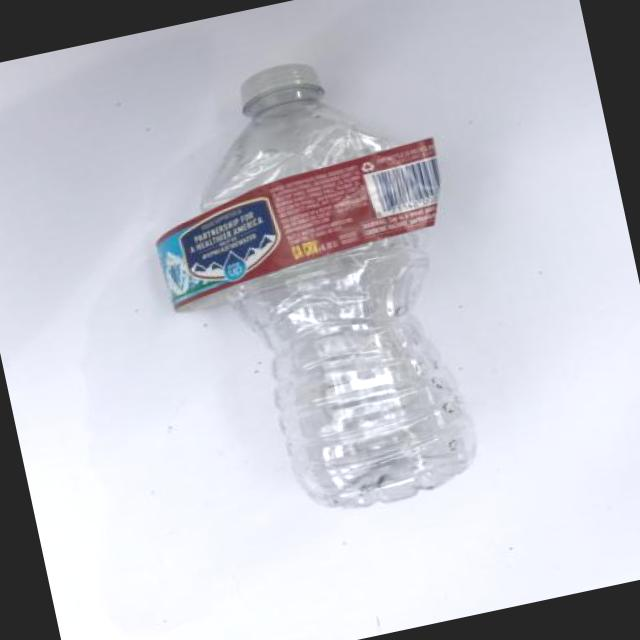bottle: (215, 231, 474, 506)
